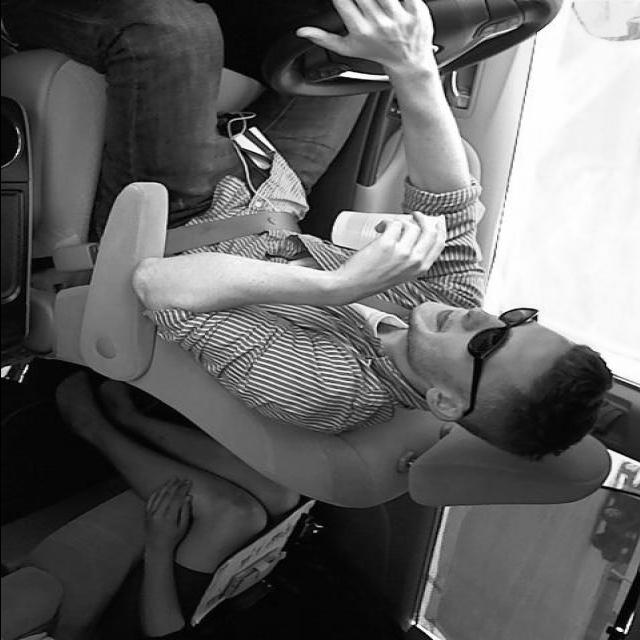drinking: (330, 207, 450, 262)
